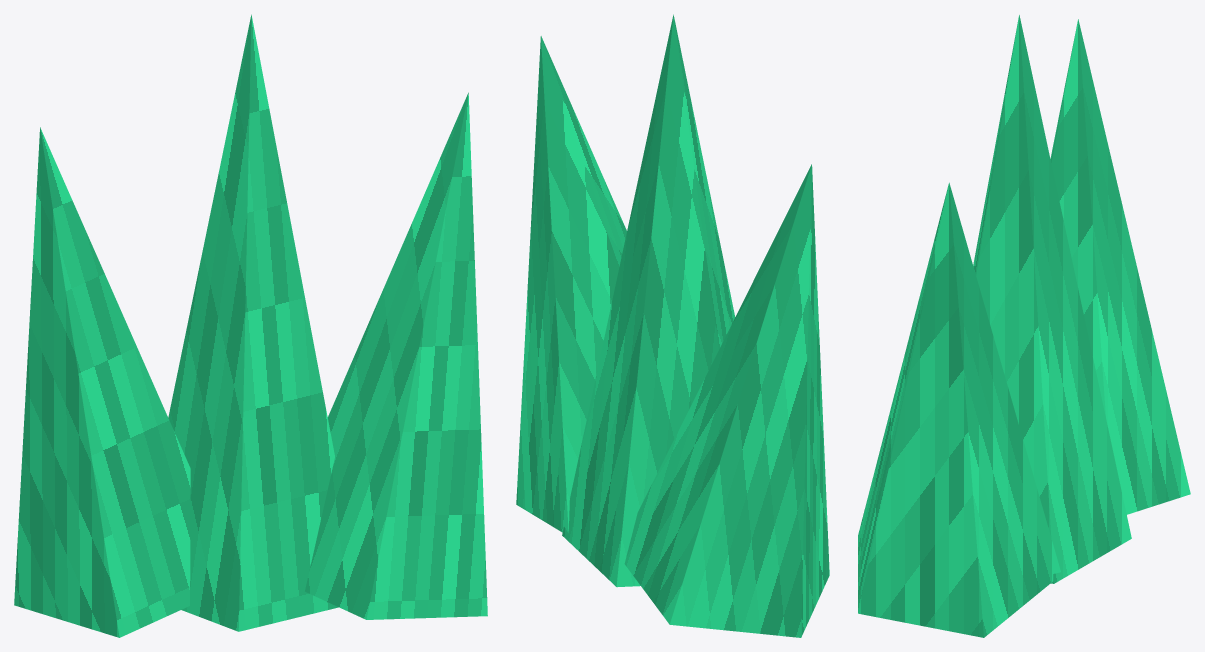
File: crystal_07.glb
3 views of the same model, side by side, from view 1: azimuth 30°, elevation 25°; view 2: azimuth 150°, elevation 25°; view 3: azimuth 270°, elevation 25° (orthographic). The views are drawn at different scales.
Visible parts, largest first — view 1: Jade.001, Jade.002, Jade; view 2: Jade, Jade.001, Jade.002; view 3: Jade.002, Jade.001, Jade.
Boxes of the visible parts, bbox=[...] form: Jade.001: bbox=[168, 14, 338, 631]; Jade.002: bbox=[305, 92, 487, 619]; Jade: bbox=[14, 127, 190, 637]; Jade: bbox=[624, 164, 829, 637]; Jade.001: bbox=[562, 14, 735, 587]; Jade.002: bbox=[516, 36, 626, 532]; Jade.002: bbox=[858, 182, 1060, 637]; Jade.001: bbox=[973, 15, 1131, 583]; Jade: bbox=[1050, 19, 1190, 514].
Bounding box in the file's own units: 0.7804 × 1.16 × 0.6502.
Materials: 1 (1 with a texture image).
